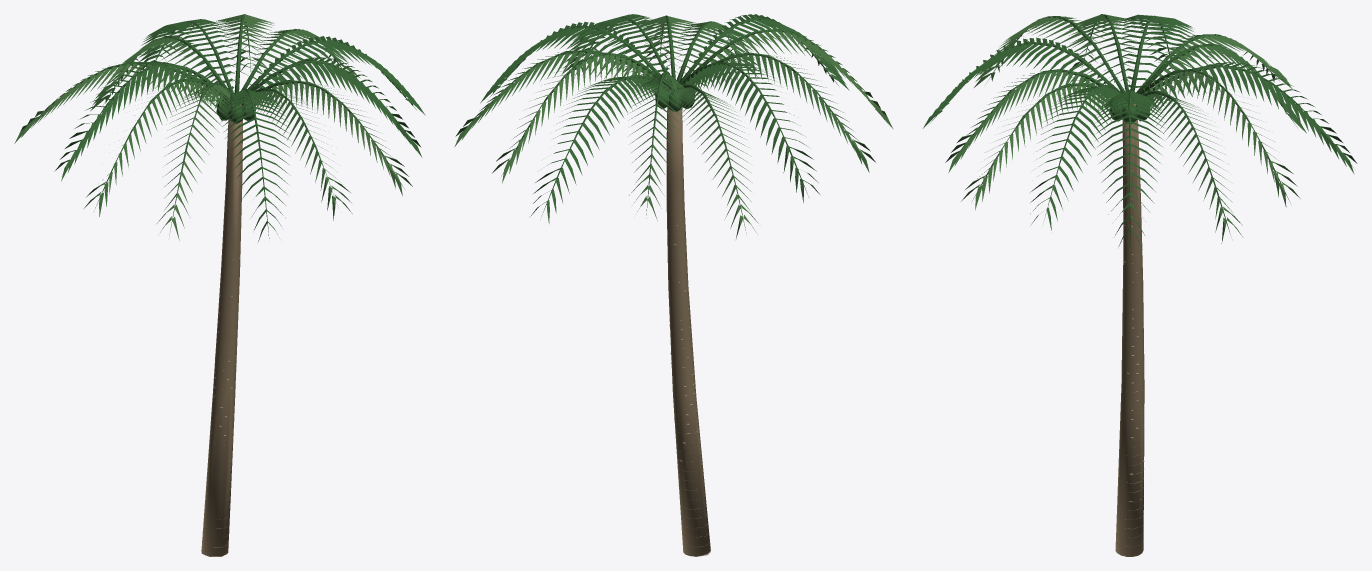
Rendered from palm-lod.glb.
3 views of the same model, side by side, from view 1: azimuth 30°, elevation 25°; view 2: azimuth 150°, elevation 25°; view 3: azimuth 270°, elevation 25° (orthographic). The views are drawn at different scales.
Visible parts, largest first — view 1: palm LOD / Palm leaf 00, palm LOD / Ringed palm bark, palm LOD / Palm leaf 02, palm LOD / Palm leaf 01; view 2: palm LOD / Palm leaf 00, palm LOD / Ringed palm bark, palm LOD / Palm leaf 02, palm LOD / Palm leaf 01; view 3: palm LOD / Palm leaf 00, palm LOD / Ringed palm bark, palm LOD / Palm leaf 02, palm LOD / Palm leaf 01.
Part boxes in pixels (left/top/right/bottom): palm LOD / Palm leaf 00: left=38, top=14, right=425, bottom=241; palm LOD / Ringed palm bark: left=201, top=104, right=242, bottom=556; palm LOD / Palm leaf 02: left=14, top=14, right=412, bottom=240; palm LOD / Palm leaf 01: left=84, top=29, right=360, bottom=220; palm LOD / Palm leaf 00: left=477, top=14, right=885, bottom=233; palm LOD / Ringed palm bark: left=666, top=90, right=710, bottom=556; palm LOD / Palm leaf 02: left=492, top=16, right=893, bottom=238; palm LOD / Palm leaf 01: left=454, top=21, right=875, bottom=220; palm LOD / Palm leaf 00: left=923, top=14, right=1357, bottom=246; palm LOD / Ringed palm bark: left=1115, top=104, right=1144, bottom=556; palm LOD / Palm leaf 02: left=961, top=16, right=1300, bottom=210; palm LOD / Palm leaf 01: left=945, top=14, right=1306, bottom=243.
Size of the model in its own units: 9.09 by 12.11 by 9.33.
